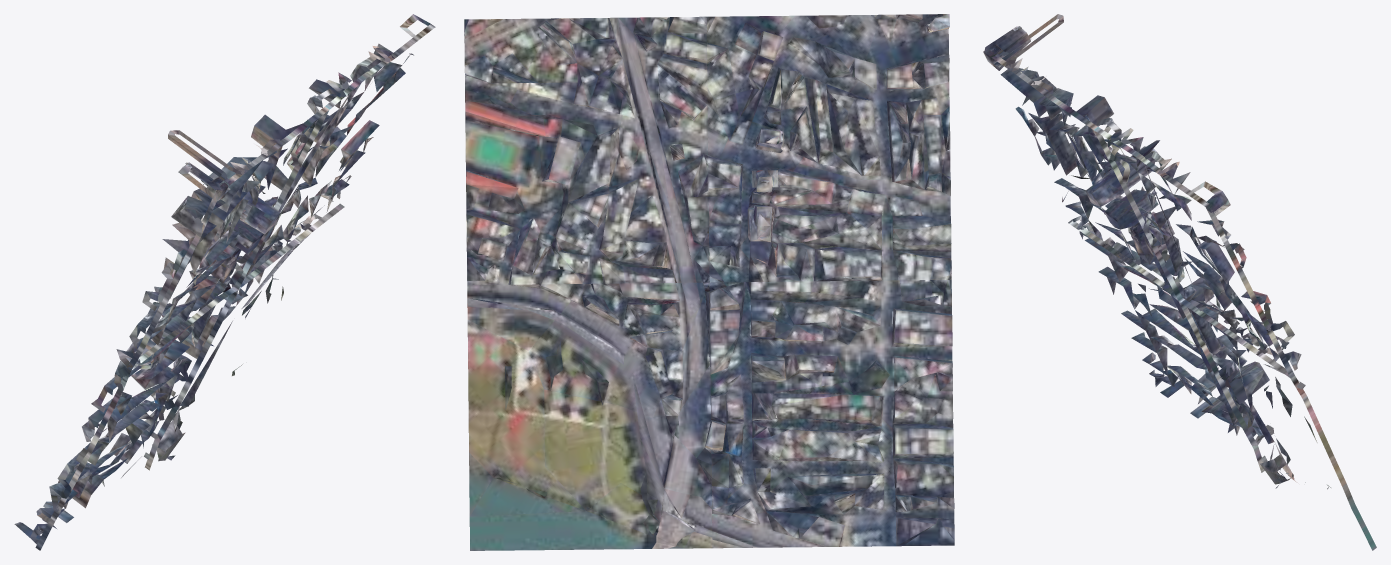
The picture shows the model from 3 angles, left to right: view 1: azimuth 30°, elevation 25°; view 2: azimuth 150°, elevation 25°; view 3: azimuth 270°, elevation 25°; orthographic projection. The views are drawn at different scales.
Bounding box in the file's own units: 619 × 602 × 510.
1 material, 1 textured.
